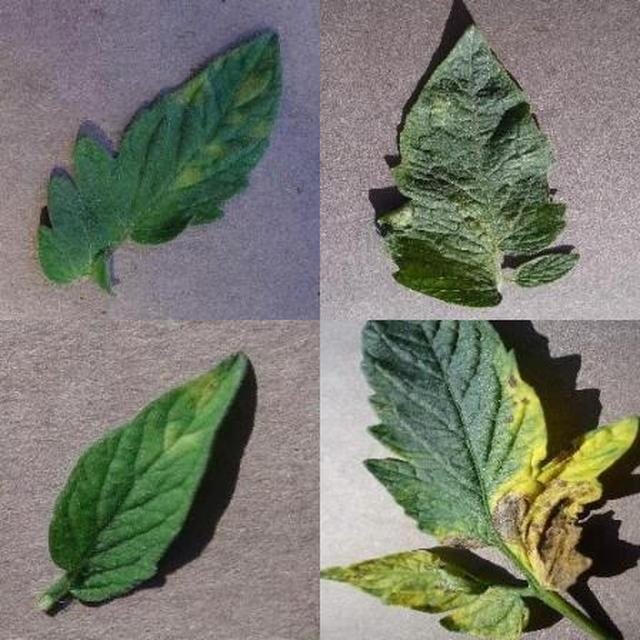Leaf Mold: (214, 224, 640, 640)
